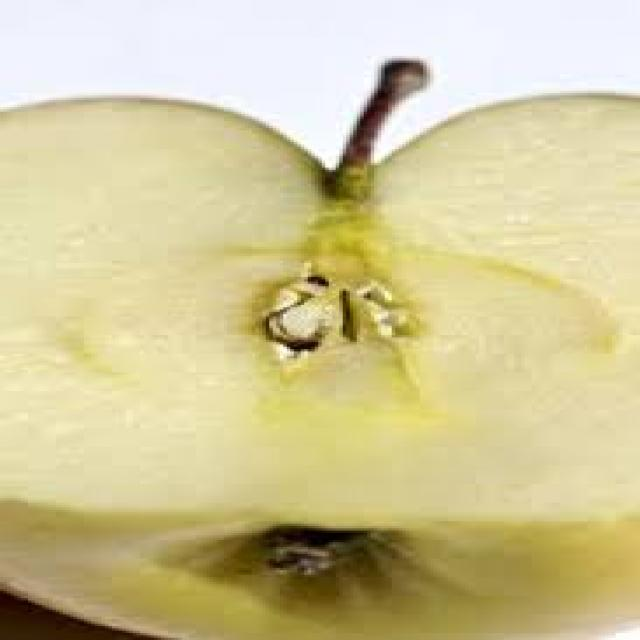Apple: (1, 94, 640, 639)
